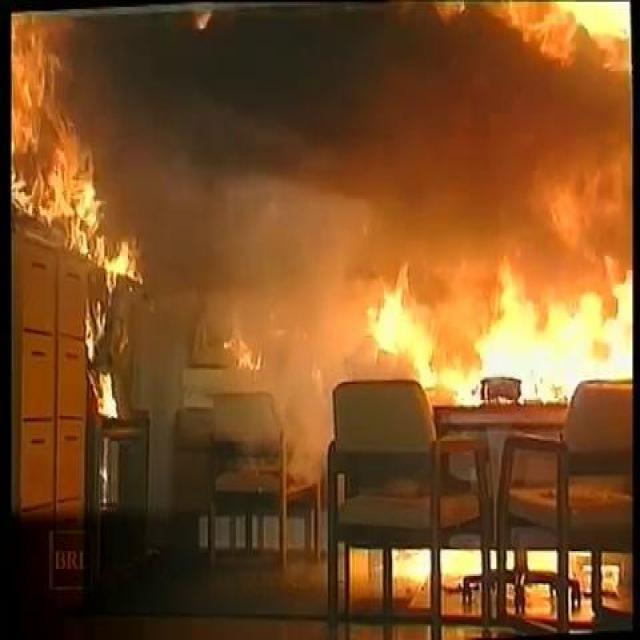Fire: (373, 262, 640, 404), (9, 19, 148, 287), (479, 1, 640, 66), (82, 318, 126, 433)
